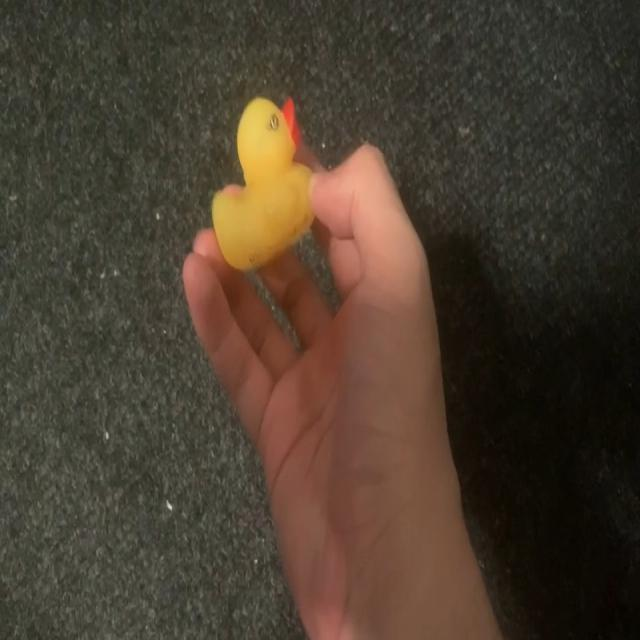rubber-duck: (211, 96, 311, 268)
